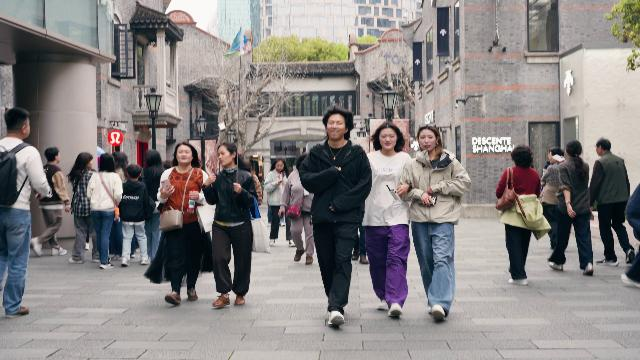person: (297, 105, 372, 327), (395, 124, 472, 321), (144, 142, 214, 306), (0, 106, 52, 317), (362, 121, 413, 318), (201, 142, 259, 309), (496, 145, 552, 285), (545, 140, 594, 276), (589, 138, 636, 266), (87, 153, 125, 270), (30, 148, 71, 256), (278, 152, 315, 265), (118, 164, 156, 267), (66, 151, 99, 264), (262, 158, 295, 247), (141, 149, 166, 262), (538, 146, 564, 251)
